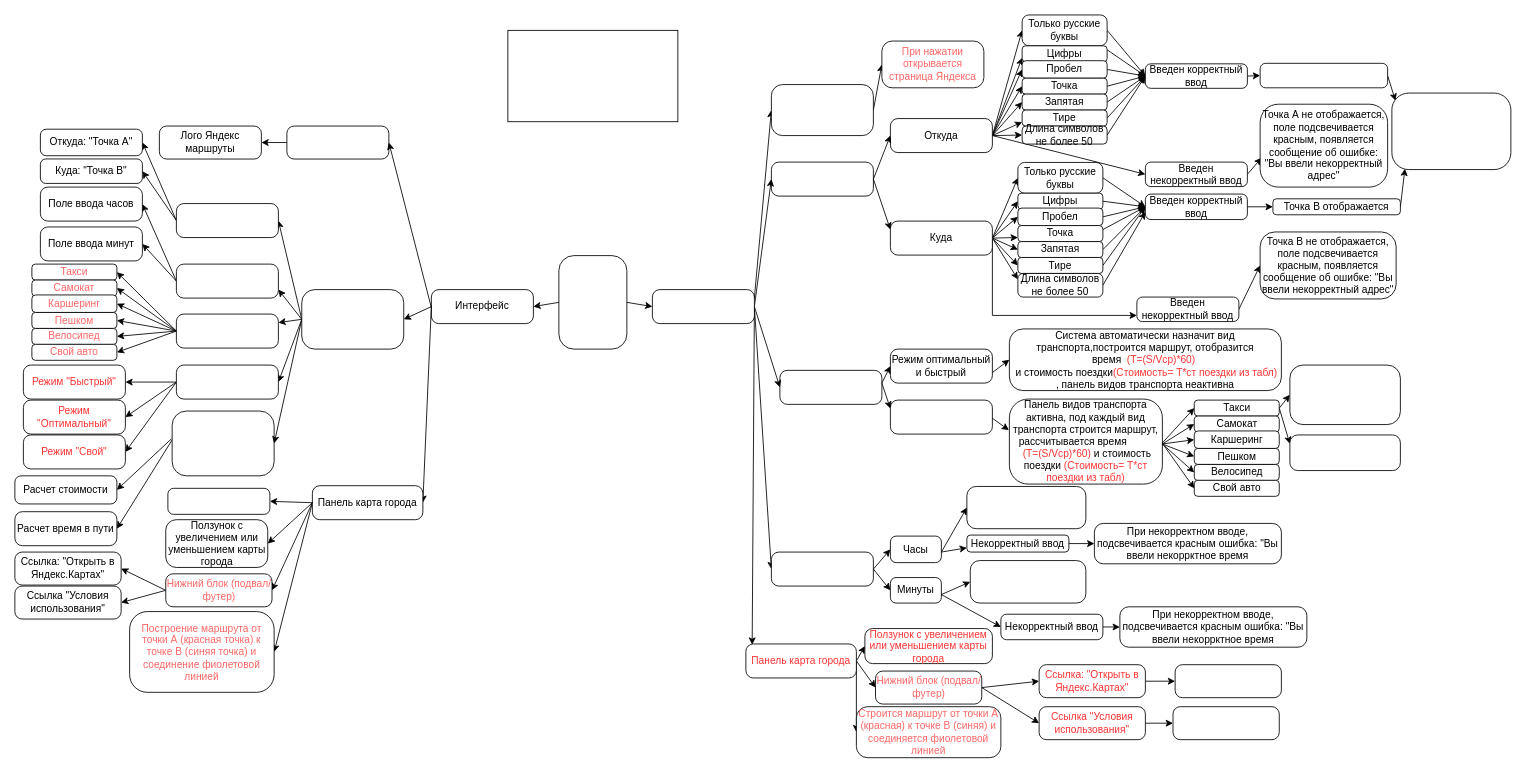
The diagram is 1526 pixels wide and 773 high, and some of its shapes have lost their labels. Each missing label, with the box of its shape:
Время начала поездки: (771, 551, 873, 586)
Выбор вида транспорта и режима: (779, 369, 882, 404)
Карта города: (167, 487, 270, 514)
Корректный ввод, разрешены только целые числа от 0 до 23: (966, 486, 1086, 529)
Корректный ввод, разрешены только целые числа от 0 до 59: (969, 560, 1086, 603)
Красным цветом выделены исправления и дополнения: (507, 29, 678, 122)
Логика: (652, 289, 754, 324)
На карте строится маршрут от точки А к точке В: (1391, 92, 1511, 170)
Открываются Условия использования: (1172, 706, 1279, 740)
Открываются Яндекс.Карты: (1174, 664, 1281, 698)
Панель выбора адреса: (176, 203, 278, 238)
Панель выбора вида транспорта: (176, 313, 278, 348)
Панель выбора времени начала поездки: (176, 263, 278, 298)
Панель выбора режима транспорта: (176, 364, 278, 399)
Панель с картинкой и кнопкой вызова такси: (171, 410, 274, 476)
Появляется баннер с картинкой такси: (1289, 434, 1400, 471)
При корректном вводе времени и адреса появляется панель "Вызвать такси": (1289, 364, 1400, 425)
Проверка правильности ввода данных в поля: (771, 161, 873, 196)
Режим свой: (890, 399, 992, 434)
Точка А отображается: (1259, 62, 1388, 88)
Форма предзаказа: (301, 289, 404, 349)
Шапка сервиса: (286, 125, 389, 159)
Шапка сервиса Яндекс маршруты: (771, 84, 873, 136)
Яндекс Маршруты: (558, 255, 627, 349)
